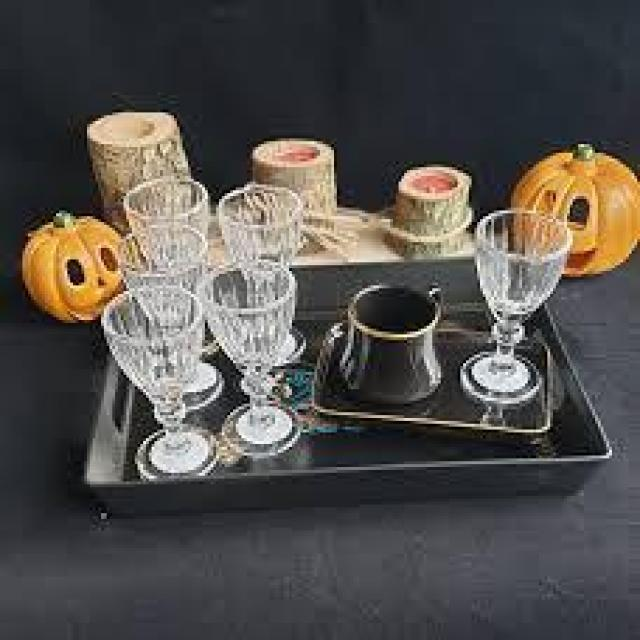non-organic waste: (98, 284, 225, 483), (331, 275, 452, 411)
